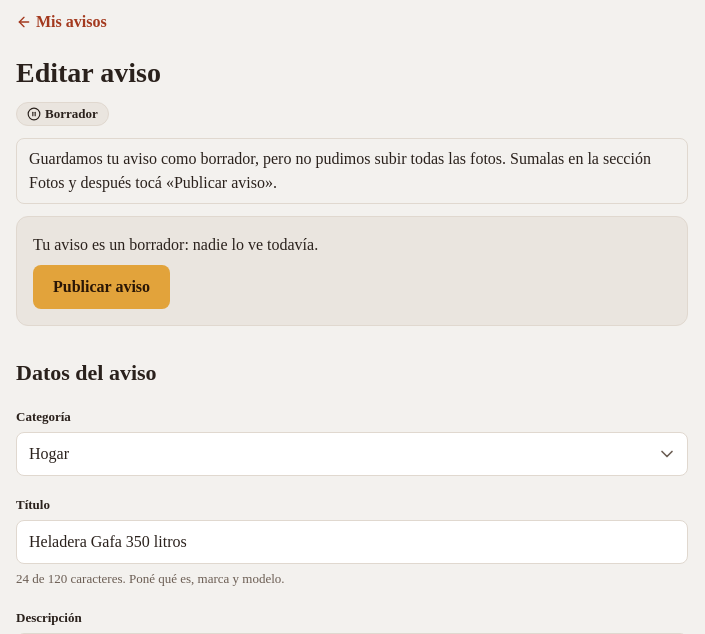
/avisos/[id]/editar › borrador: muestra el aviso de ?aviso=fotos-pendientes y publica
Check: the text "no pudimos subir todas las fotos" is shown, box x1=29 y1=150 x2=651 y2=191
Check: the text "Tu aviso es un borrador: nadie lo ve todavía." is shown, box x1=33 y1=236 x2=318 y2=253
Step 1. Click the button "Publicar aviso" → (102, 287), box x1=33 y1=265 x2=170 y2=309
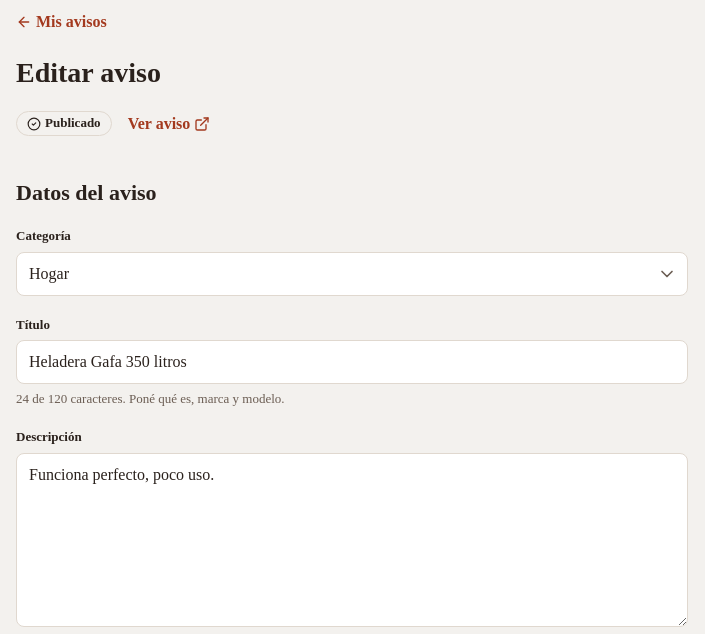
Check: the message "Publicar aviso" is gone
Check: the link "Ver aviso" is shown, box x1=128 y1=115 x2=210 y2=132
